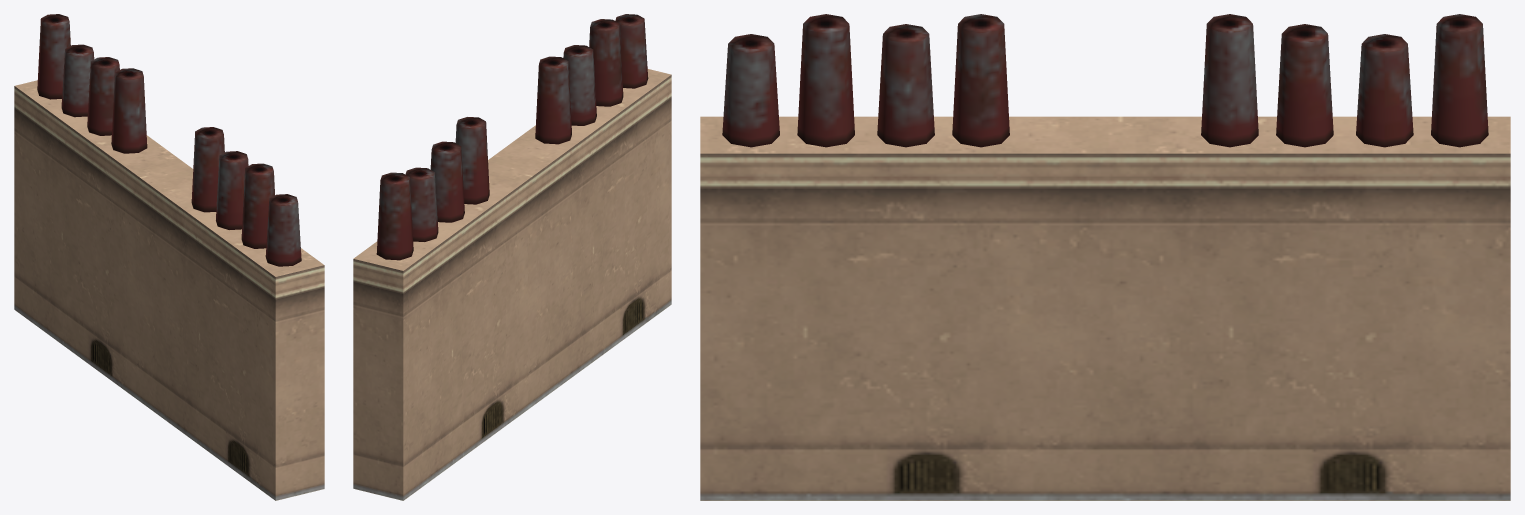
3 views of the same model, side by side, from view 1: azimuth 30°, elevation 25°; view 2: azimuth 150°, elevation 25°; view 3: azimuth 270°, elevation 25° (orthographic). The views are drawn at different scales.
Visible parts, largest first — view 1: um_t1_ar202_model_t1_ar202_modelShape; view 2: um_t1_ar202_model_t1_ar202_modelShape; view 3: um_t1_ar202_model_t1_ar202_modelShape.
Part boxes in pixels (bbox=[...]): um_t1_ar202_model_t1_ar202_modelShape: bbox=[14, 14, 324, 500]; um_t1_ar202_model_t1_ar202_modelShape: bbox=[353, 14, 671, 500]; um_t1_ar202_model_t1_ar202_modelShape: bbox=[700, 14, 1510, 500].
Bounding box in the file's own units: 0.3977 × 2.3 × 3.68.
2 materials, 2 textured.
